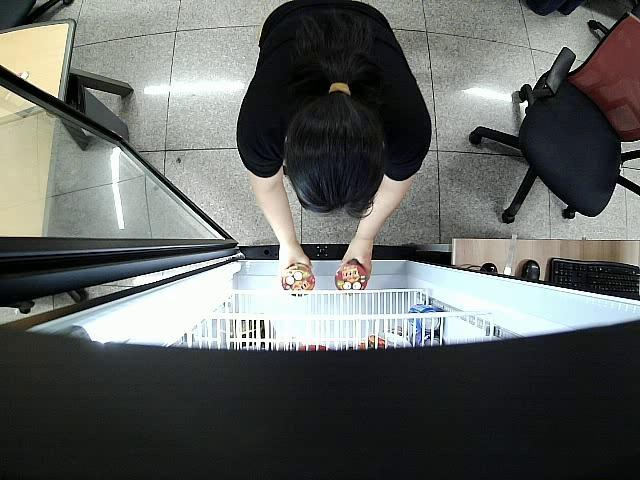06_nuguri_S: (282, 266, 316, 298), (336, 262, 368, 295)
